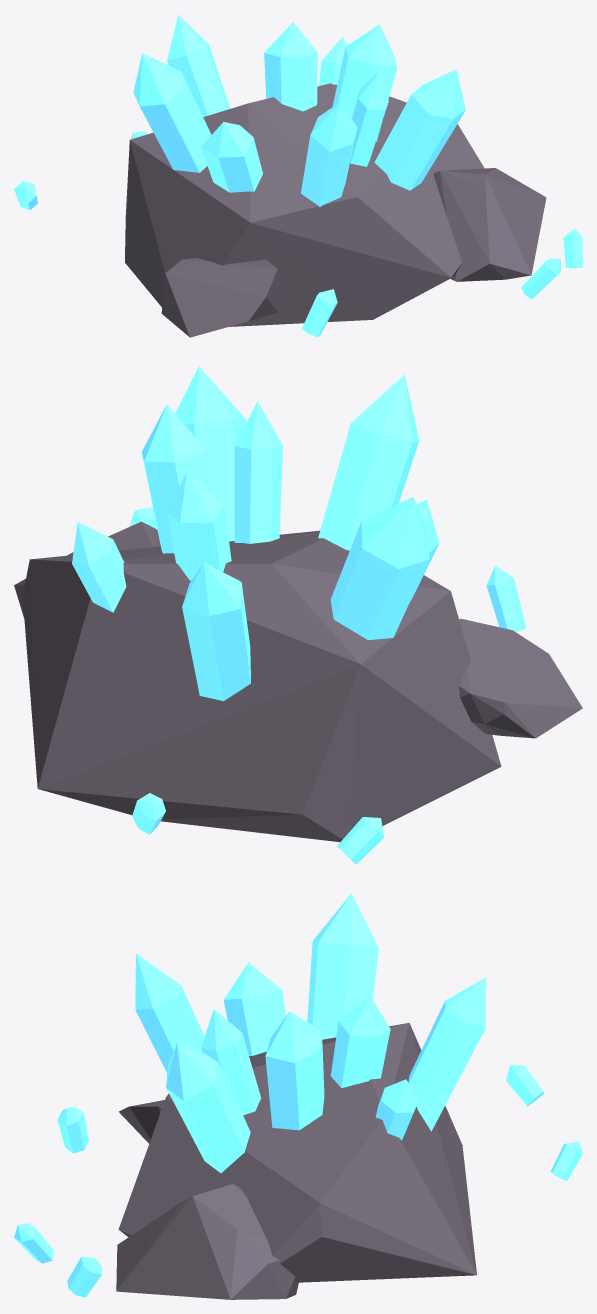
Rendered from Crystal_OreNode_Blue.glb.
The picture shows the model from 3 angles, top to bottom: view 1: azimuth 30°, elevation 25°; view 2: azimuth 150°, elevation 25°; view 3: azimuth 270°, elevation 25°; orthographic projection. The views are drawn at different scales.
Visible parts, largest first — view 1: Crystal_OreNode_blue; view 2: Crystal_OreNode_blue; view 3: Crystal_OreNode_blue.
Part boxes in pixels (<box>): Crystal_OreNode_blue: <box>14,14,582,337</box>; Crystal_OreNode_blue: <box>14,366,582,864</box>; Crystal_OreNode_blue: <box>14,893,582,1299</box>.
Size of the model in its own units: 1.27 by 0.715 by 1.38.
